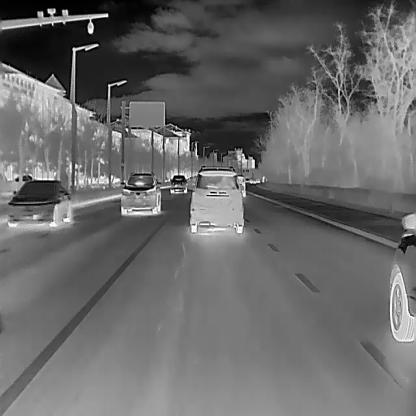car: (189, 165, 244, 232), (389, 210, 415, 342), (6, 178, 70, 226), (120, 170, 161, 214), (170, 174, 187, 192), (237, 173, 245, 196), (14, 174, 32, 181), (261, 174, 265, 182)
